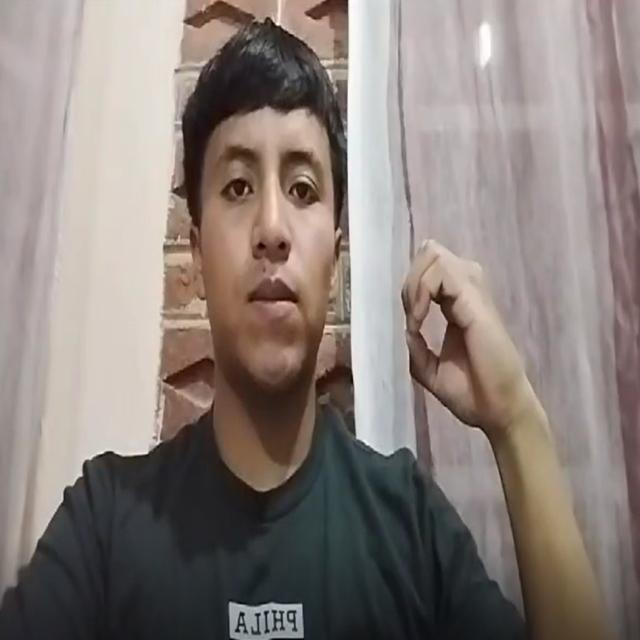O: (361, 219, 553, 483)
